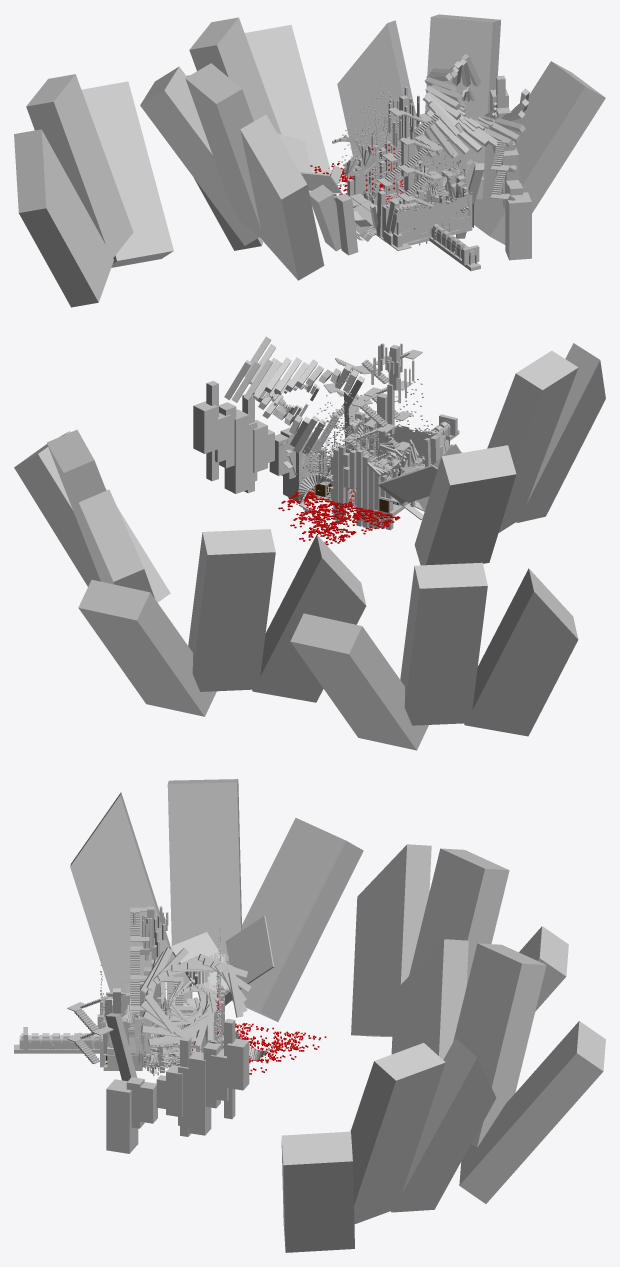
Rendered from SM_Building_Shiza.fbx.
The picture shows the model from 3 angles, top to bottom: view 1: azimuth 30°, elevation 25°; view 2: azimuth 150°, elevation 25°; view 3: azimuth 270°, elevation 25°; orthographic projection. The views are drawn at different scales.
Parts seen in each view (by area): view 1: concrete1, polySurface637, polySurface731, polySurface645, polySurface636, SM_Building_Shiza, polySurface533; view 2: concrete1, red_emissive, polySurface731, SM_Building_Shiza; view 3: concrete1, red_emissive, polySurface645.
Part boxes in pixels (x1,y1,x2,y2): concrete1: (14,14,605,307); polySurface637: (369,176,473,243); polySurface731: (324,81,472,236); polySurface645: (431,224,479,265); polySurface636: (396,194,472,221); SM_Building_Shiza: (355,159,483,245); polySurface533: (371,226,480,271); concrete1: (14,336,605,750); red_emissive: (278,488,400,545); polySurface731: (298,379,436,493); SM_Building_Shiza: (279,435,423,496); concrete1: (67,779,605,1252); red_emissive: (177,988,326,1074); polySurface645: (19,1027,102,1051).
Bounding box in the file's own units: 38667 × 19079 × 33966.
